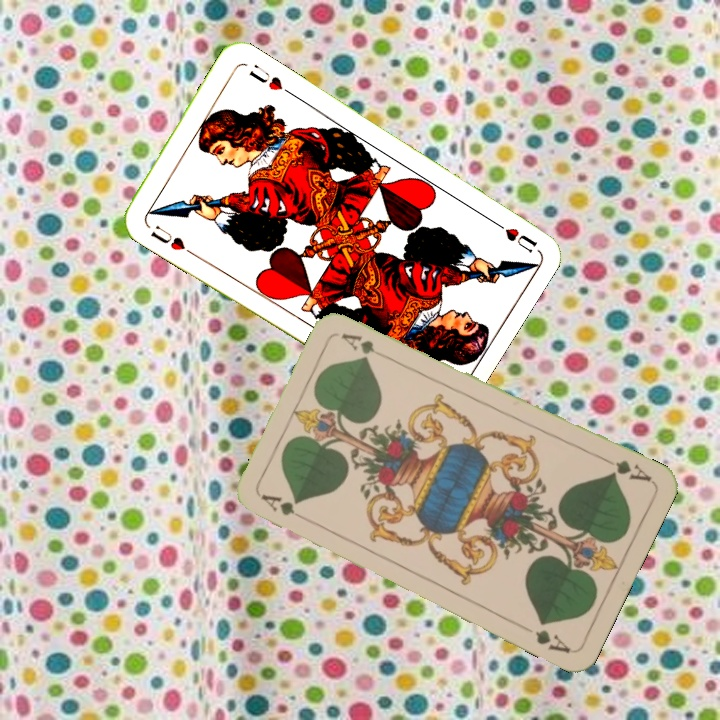GA: (257, 490, 313, 525), (599, 455, 654, 485)
HU: (486, 215, 540, 256), (146, 221, 188, 253)
